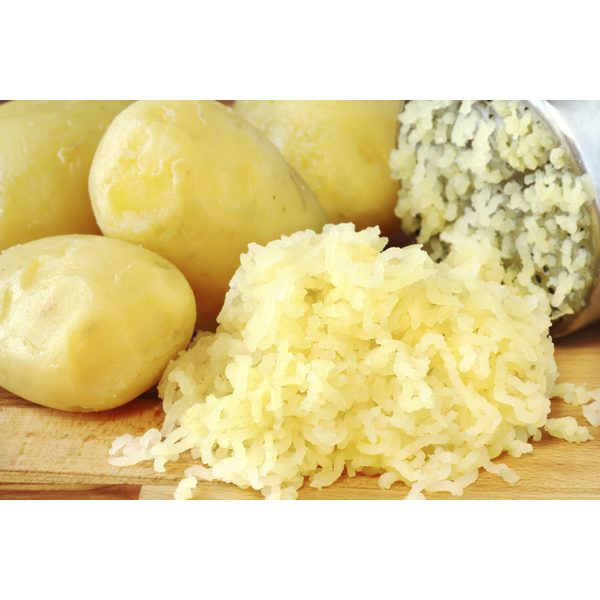boiled potatoes: (3, 237, 200, 429), (86, 104, 290, 279), (232, 103, 409, 232)
plain rice: (151, 249, 565, 491), (398, 105, 600, 332)
